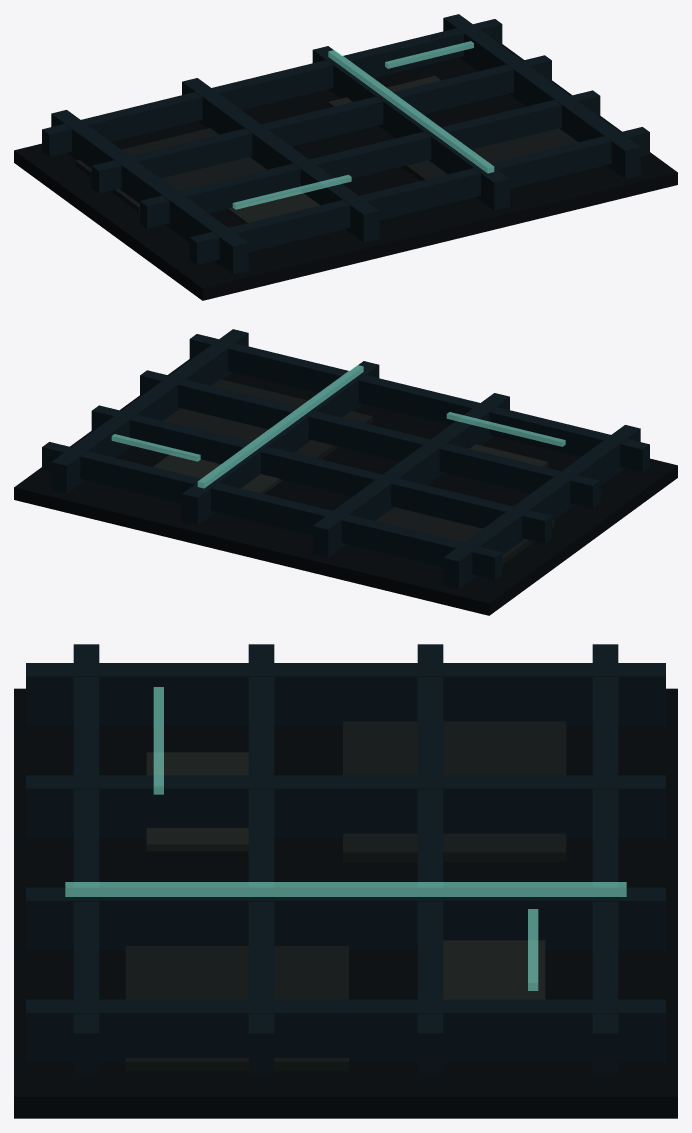
The model's file is hp_room_ceiling_panel_residential.glb.
The picture shows the model from 3 angles, top to bottom: view 1: azimuth 30°, elevation 25°; view 2: azimuth 150°, elevation 25°; view 3: azimuth 270°, elevation 25°; orthographic projection. The views are drawn at different scales.
Visible parts, largest first — view 1: residential_ceiling_shadow_backplate, residential_ceiling_cross_beam_0.86, residential_ceiling_cross_beam_-0.28, residential_ceiling_cross_beam_-0.86, residential_ceiling_cross_beam_0.28, residential_ceiling_long_beam_-1.32, residential_ceiling_long_beam_1.32, residential_ceiling_long_beam_0.44, residential_ceiling_long_beam_-0.44, residential_ceiling_recess_left, residential_ceiling_recess_right, residential_ceiling_cyan_spine (+4 smaller); view 2: residential_ceiling_shadow_backplate, residential_ceiling_cross_beam_-0.86, residential_ceiling_cross_beam_0.28, residential_ceiling_cross_beam_0.86, residential_ceiling_cross_beam_-0.28, residential_ceiling_long_beam_-1.32, residential_ceiling_long_beam_-0.44, residential_ceiling_long_beam_1.32, residential_ceiling_long_beam_0.44, residential_ceiling_recess_right, residential_ceiling_recess_left, residential_ceiling_cyan_spine (+4 smaller); view 3: residential_ceiling_shadow_backplate, residential_ceiling_long_beam_1.32, residential_ceiling_long_beam_-1.32, residential_ceiling_long_beam_-0.44, residential_ceiling_long_beam_0.44, residential_ceiling_recess_left, residential_ceiling_recess_right, residential_ceiling_cross_beam_-0.86, residential_ceiling_cross_beam_-0.28, residential_ceiling_cross_beam_0.28, residential_ceiling_cross_beam_0.86, residential_ceiling_cyan_spine (+4 smaller).
Boxes of the visible parts, <box> form: residential_ceiling_shadow_backplate: <box>14,44,677,300</box>; residential_ceiling_cross_beam_0.86: <box>189,127,649,264</box>; residential_ceiling_cross_beam_-0.28: <box>91,55,551,193</box>; residential_ceiling_cross_beam_-0.86: <box>42,19,502,156</box>; residential_ceiling_cross_beam_0.28: <box>140,90,600,228</box>; residential_ceiling_long_beam_-1.32: <box>51,110,248,274</box>; residential_ceiling_long_beam_1.32: <box>443,14,640,178</box>; residential_ceiling_long_beam_0.44: <box>312,46,509,210</box>; residential_ceiling_long_beam_-0.44: <box>182,78,379,242</box>; residential_ceiling_recess_left: <box>75,128,266,212</box>; residential_ceiling_recess_right: <box>401,128,578,180</box>; residential_ceiling_cyan_spine: <box>328,50,494,173</box>; residential_ceiling_shadow_backplate: <box>14,359,677,615</box>; residential_ceiling_cross_beam_-0.86: <box>42,442,502,579</box>; residential_ceiling_cross_beam_0.28: <box>140,370,600,508</box>; residential_ceiling_cross_beam_0.86: <box>189,334,649,471</box>; residential_ceiling_cross_beam_-0.28: <box>91,405,551,543</box>; residential_ceiling_long_beam_-1.32: <box>443,425,640,589</box>; residential_ceiling_long_beam_-0.44: <box>312,393,509,557</box>; residential_ceiling_long_beam_1.32: <box>51,329,248,493</box>; residential_ceiling_long_beam_0.44: <box>182,361,379,525</box>; residential_ceiling_recess_right: <box>163,379,372,459</box>; residential_ceiling_recess_left: <box>375,507,554,564</box>; residential_ceiling_cyan_spine: <box>197,365,363,488</box>; residential_ceiling_shadow_backplate: <box>14,688,677,1118</box>; residential_ceiling_long_beam_1.32: <box>26,999,665,1062</box>; residential_ceiling_long_beam_-1.32: <box>26,663,665,725</box>; residential_ceiling_long_beam_-0.44: <box>26,775,665,837</box>; residential_ceiling_long_beam_0.44: <box>26,887,665,949</box>; residential_ceiling_recess_left: <box>343,721,566,861</box>; residential_ceiling_recess_right: <box>125,946,348,1071</box>; residential_ceiling_cross_beam_-0.86: <box>592,644,618,1072</box>; residential_ceiling_cross_beam_-0.28: <box>417,644,443,1072</box>; residential_ceiling_cross_beam_0.28: <box>248,644,274,1072</box>; residential_ceiling_cross_beam_0.86: <box>73,644,99,1072</box>; residential_ceiling_cyan_spine: <box>65,882,626,896</box>.
Bounding box in the file's own units: 3.2 × 0.315 × 2.2.
